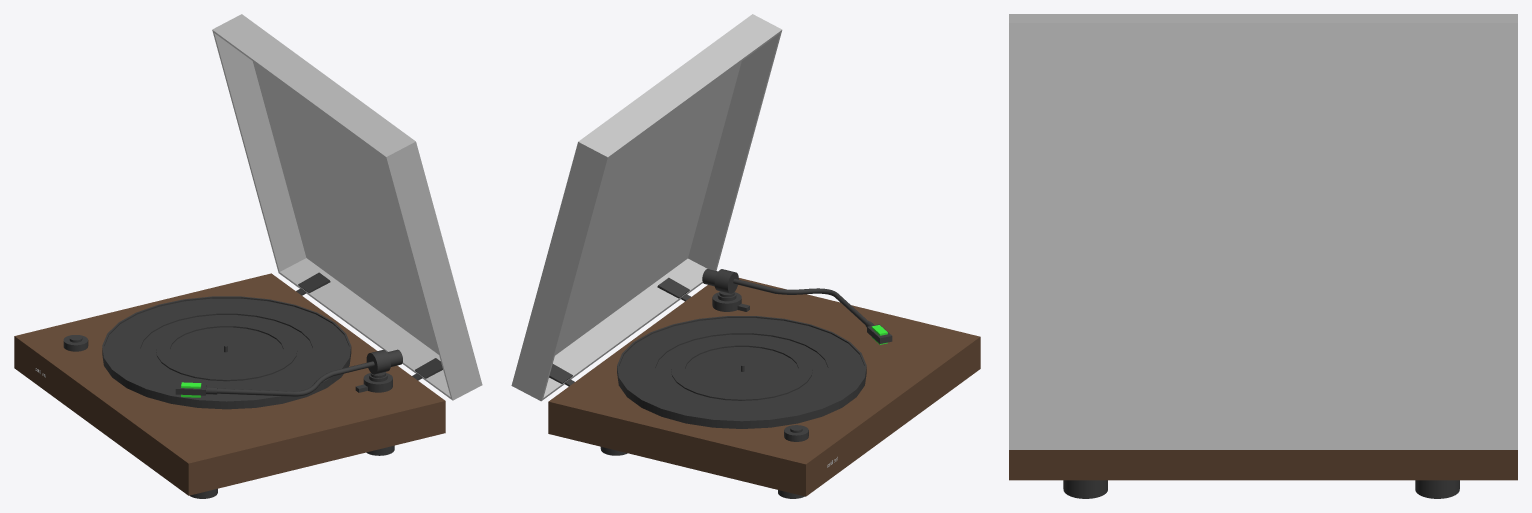
The model's file is 4-d0cvpHjpS.glb.
The picture shows the model from 3 angles, left to right: view 1: azimuth 30°, elevation 25°; view 2: azimuth 150°, elevation 25°; view 3: azimuth 270°, elevation 25°; orthographic projection. The views are drawn at different scales.
Visible parts, largest first — view 1: Text002, Box20189, Line003; view 2: Text002, Box20189, Line003; view 3: Text002, Box20189, Line003.
Boxes of the visible parts, left/top/right/bottom form: Text002: left=35, top=14, right=482, bottom=400; Box20189: left=14, top=273, right=445, bottom=495; Line003: left=63, top=272, right=442, bottom=498; Text002: left=511, top=14, right=837, bottom=467; Box20189: left=548, top=278, right=980, bottom=496; Line003: left=549, top=269, right=892, bottom=498; Text002: left=1009, top=14, right=1517, bottom=449; Box20189: left=1009, top=450, right=1517, bottom=480; Line003: left=1063, top=480, right=1459, bottom=498.
Bounding box in the file's own units: 0.9484 × 1 × 0.9729.
